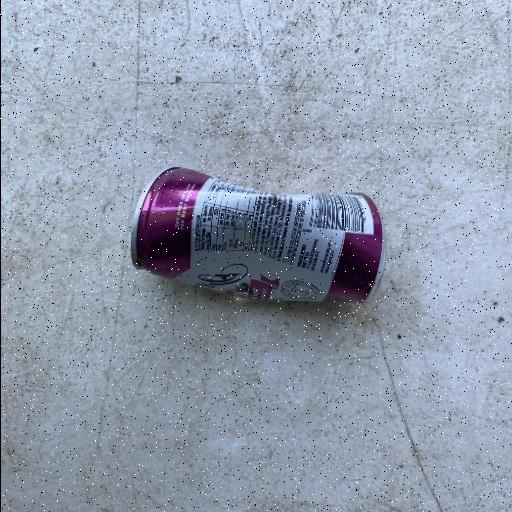Metal: (128, 164, 386, 304)
